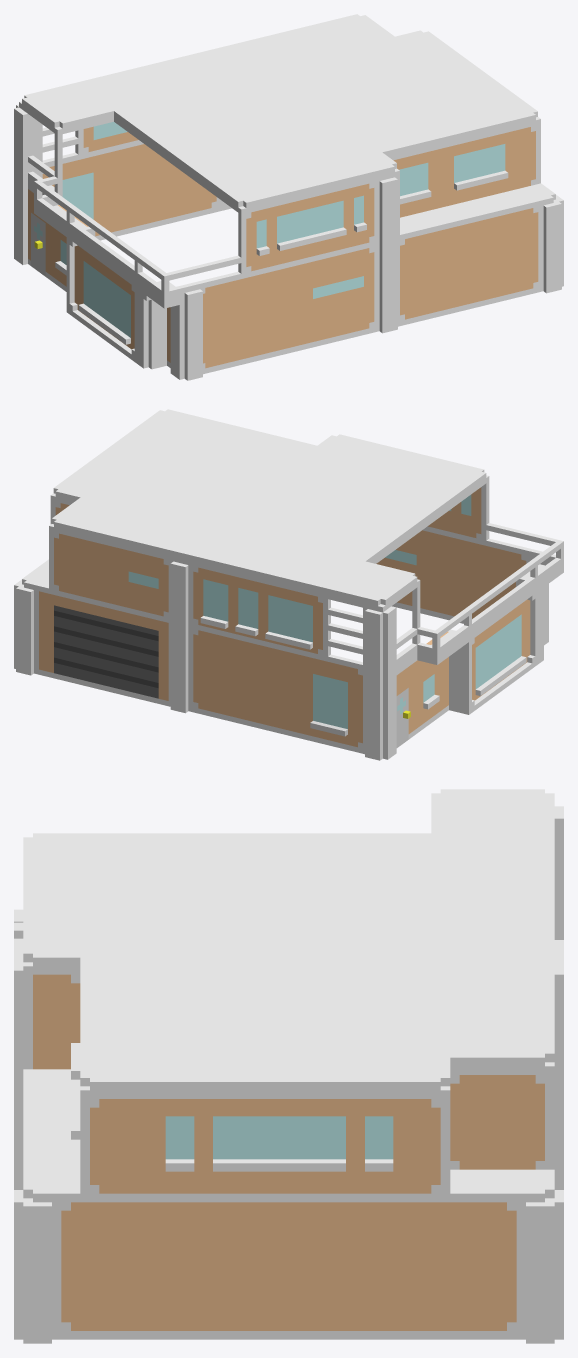
File: exterior.glb
3 renders of one model, top to bottom at view 1: azimuth 30°, elevation 25°; view 2: azimuth 150°, elevation 25°; view 3: azimuth 270°, elevation 25°, orthographic. The views are drawn at different scales.
Visible parts, largest first — view 1: Untitled; view 2: Untitled; view 3: Untitled.
Boxes of the visible parts, x1=… form: Untitled: x1=14, y1=14, x2=563, y2=380; Untitled: x1=14, y1=409, x2=563, y2=760; Untitled: x1=14, y1=789, x2=563, y2=1343.
Bounding box in the file's own units: 7.8 × 3 × 5.8.
1 material, 1 textured.
